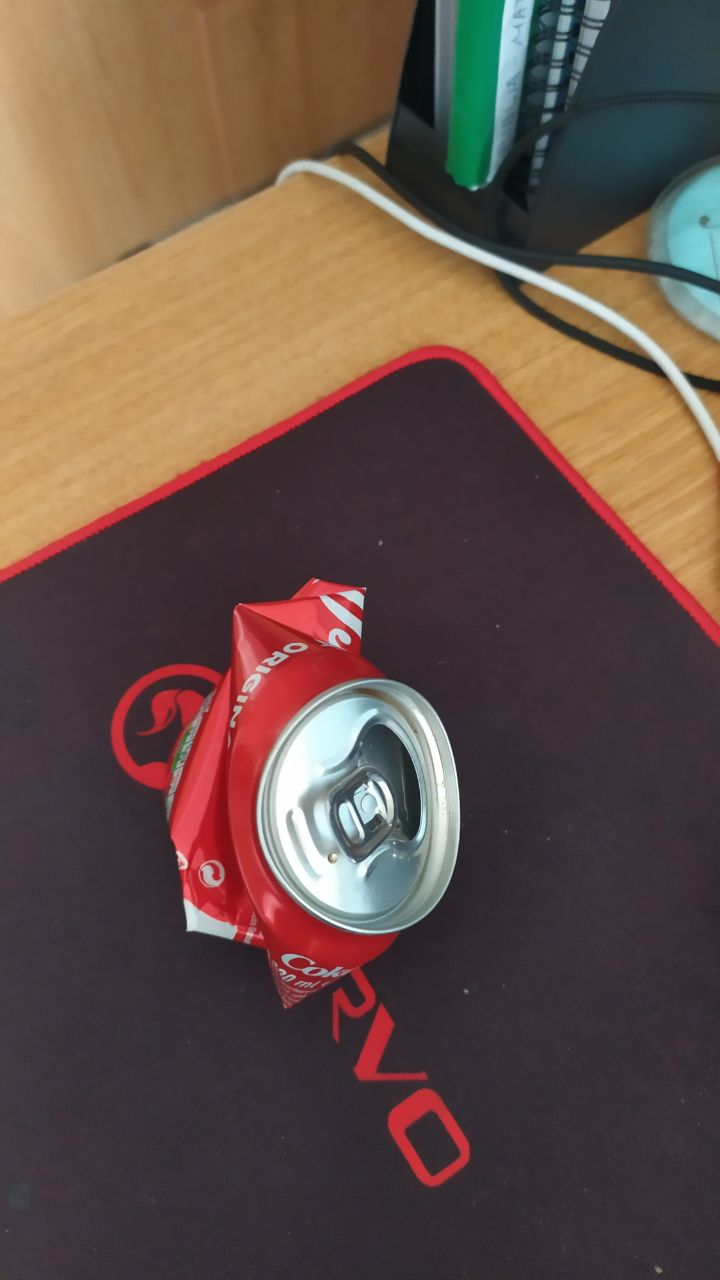Can: (163, 571, 472, 1012)
